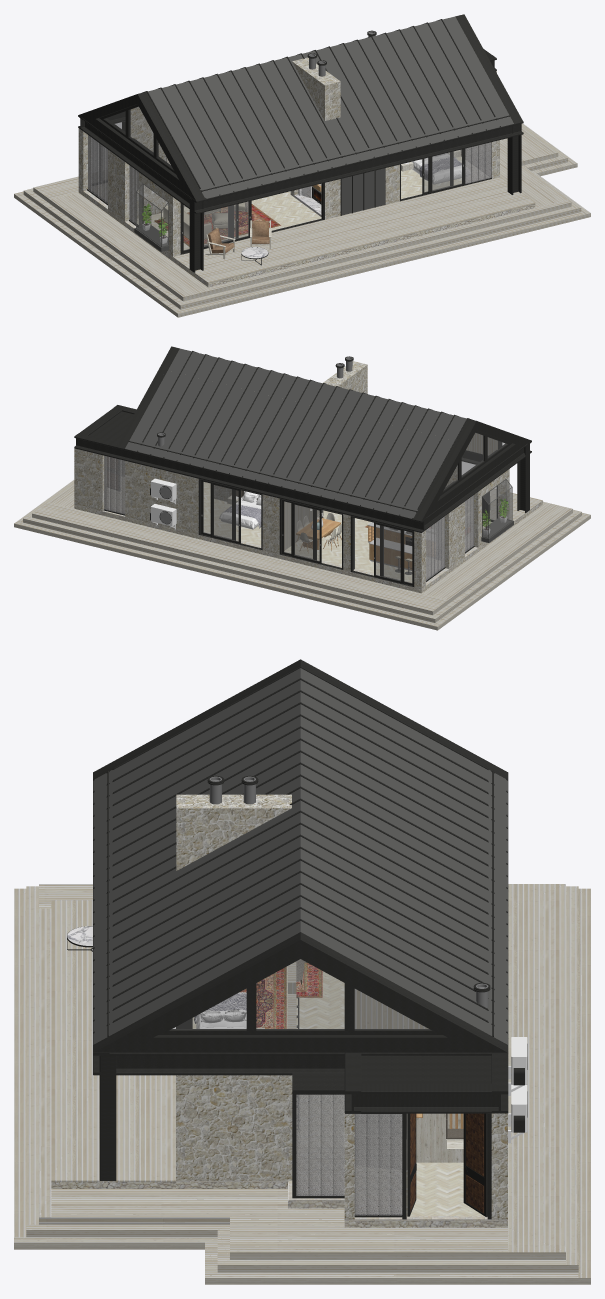
File: cabin-y0.glb
3 views of the same model, one above another, from view 1: azimuth 30°, elevation 25°; view 2: azimuth 150°, elevation 25°; view 3: azimuth 270°, elevation 25° (orthographic). The views are drawn at different scales.
Visible parts, largest first — view 1: Material2 (×12), Material3 (×3); view 2: Material2 (×13), Material3; view 3: Material2 (×13), Material3 (×2).
Part boxes in pixels (left/top/right/bottom): Material2 (×12): left=14, top=14, right=590, bottom=317; Material3 (×3): left=88, top=135, right=491, bottom=253; Material2 (×13): left=14, top=346, right=590, bottom=630; Material3: left=104, top=456, right=473, bottom=580; Material2 (×13): left=14, top=659, right=590, bottom=1284; Material3 (×2): left=296, top=1094, right=463, bottom=1215.
Size of the model in its own units: 17.46 by 6.04 by 10.94.
Materials: 69 (44 with a texture image).
